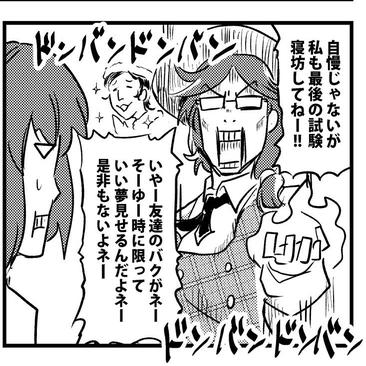bubble: (74, 128, 184, 346), (272, 21, 353, 179)
